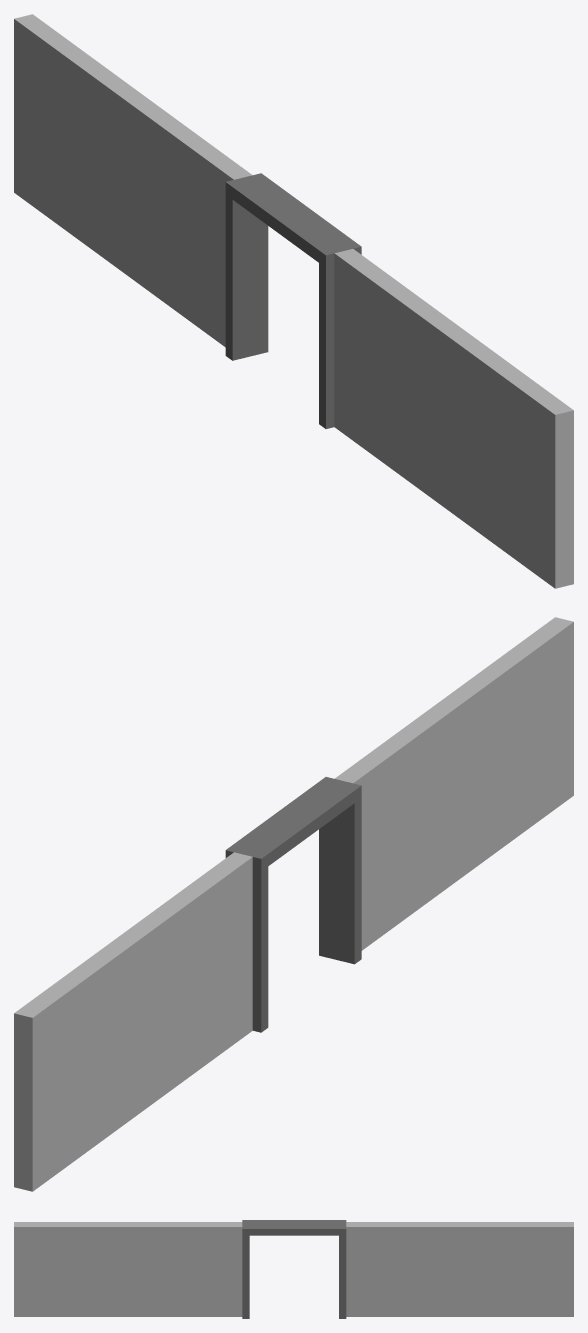
File: TUONGRONG_THUONG.fbx
3 views of the same model, one above another, from view 1: azimuth 30°, elevation 25°; view 2: azimuth 150°, elevation 25°; view 3: azimuth 270°, elevation 25° (orthographic). The views are drawn at different scales.
Visible parts, largest first — view 1: TUONGRONG_THUONG; view 2: TUONGRONG_THUONG; view 3: TUONGRONG_THUONG.
Boxes of the visible parts, x1,y1,x2,y2 form: TUONGRONG_THUONG: (14, 14, 573, 588); TUONGRONG_THUONG: (14, 617, 573, 1191); TUONGRONG_THUONG: (14, 1220, 573, 1318).
Bounding box in the file's own units: 114 × 532 × 3000.
